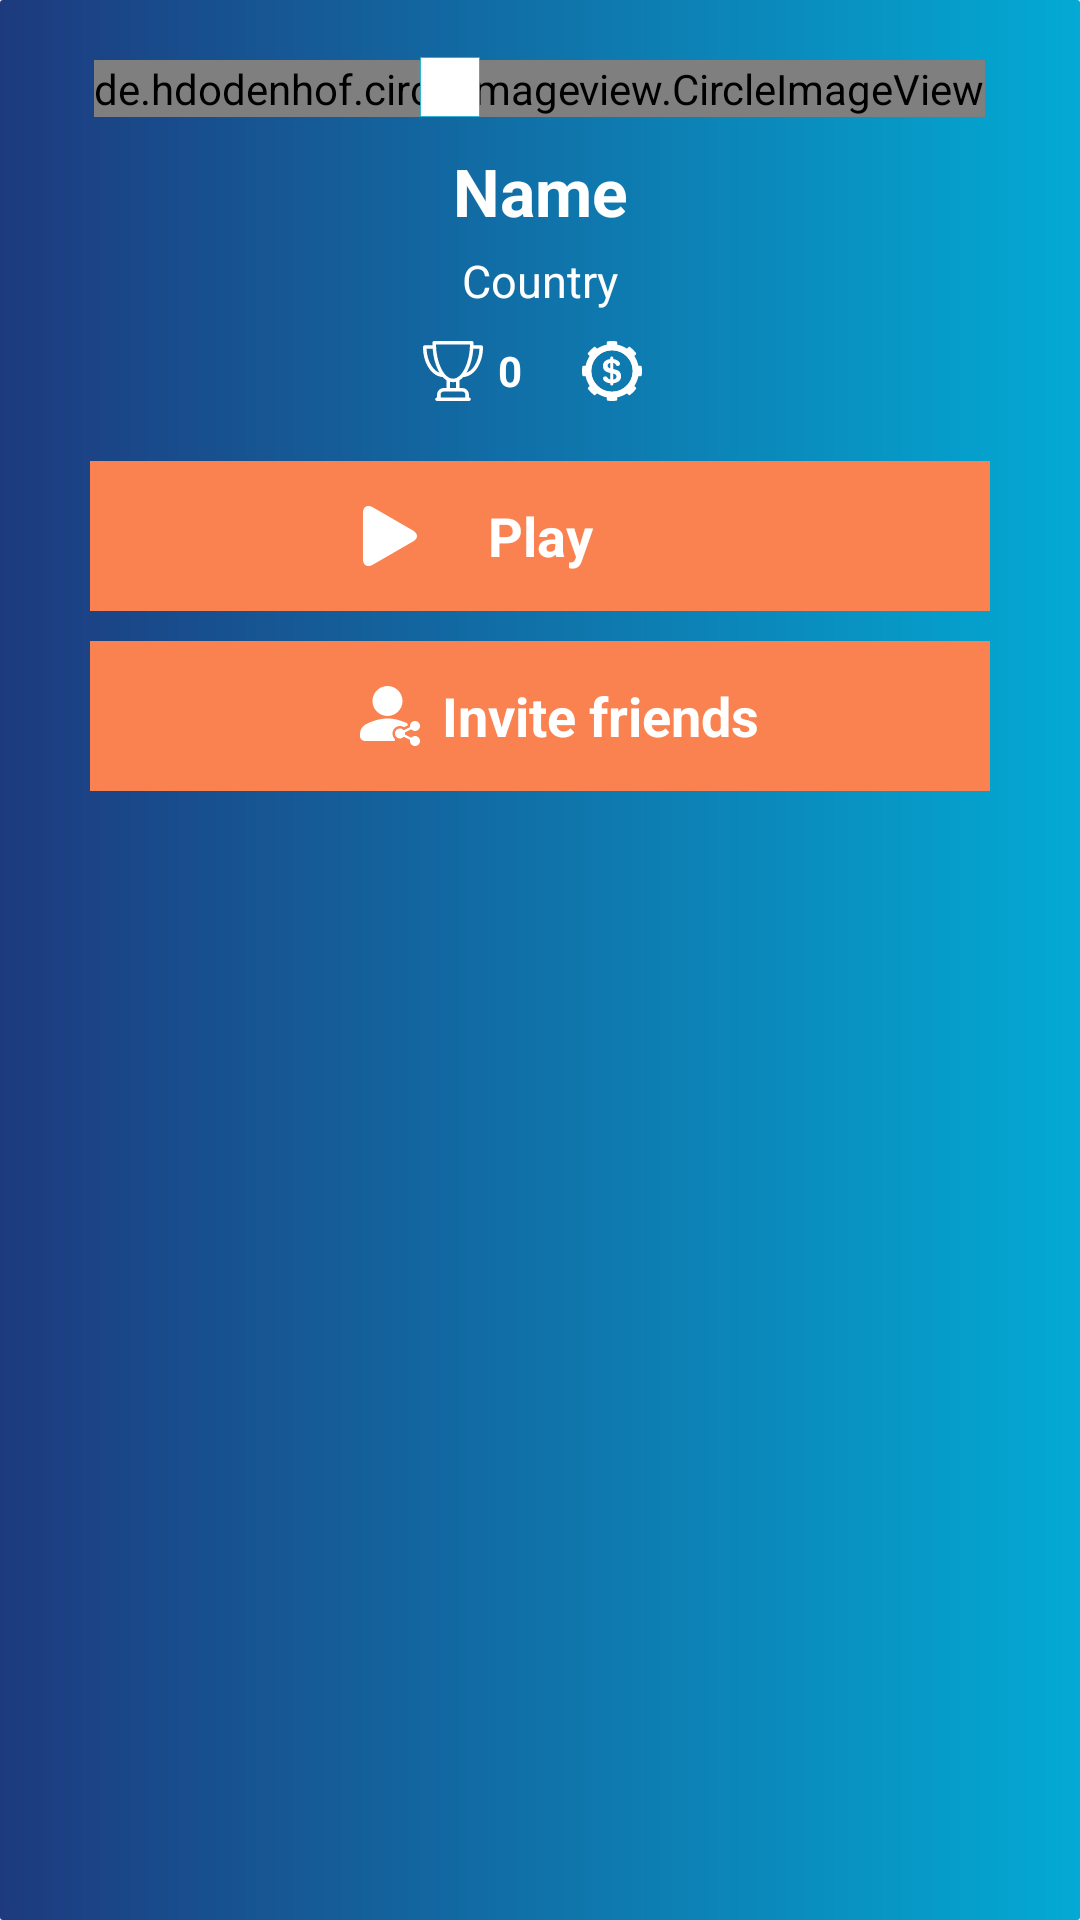

Icons on this 1080×1920 Android screen, each with the point to tap as (x=x, y=y):
dollar: (x=612, y=371)
trophy: (x=453, y=371)
